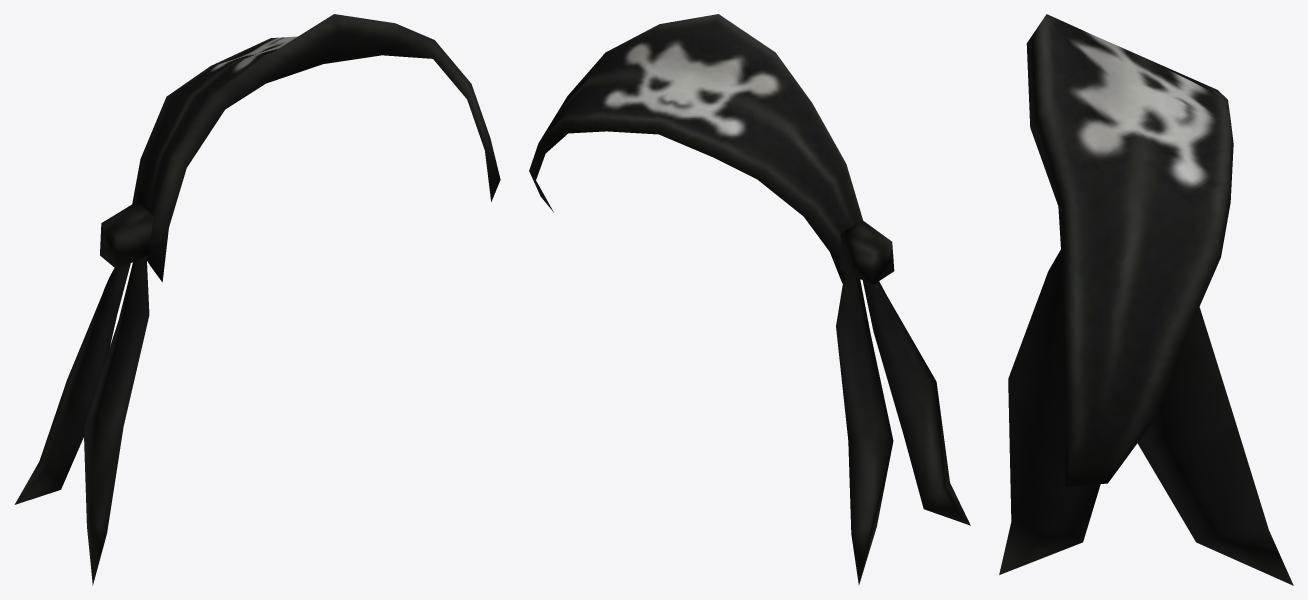
File: pirateBandanaR.glb
The picture shows the model from 3 angles, left to right: view 1: azimuth 30°, elevation 25°; view 2: azimuth 150°, elevation 25°; view 3: azimuth 270°, elevation 25°; orthographic projection. The views are drawn at different scales.
Parts seen in each view (by area): view 1: pirateBandanaR; view 2: pirateBandanaR; view 3: pirateBandanaR.
Part boxes in pixels (bbox=[...]): pirateBandanaR: bbox=[14, 14, 500, 585]; pirateBandanaR: bbox=[529, 14, 970, 584]; pirateBandanaR: bbox=[999, 14, 1293, 585].
Size of the model in its own units: 0.6745 by 0.7445 by 0.2691.
Materials: 1 (1 with a texture image).
